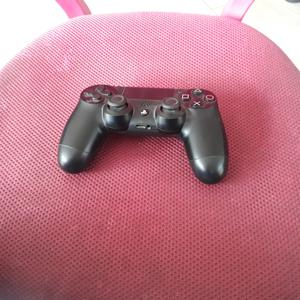controller: (58, 84, 227, 184)
